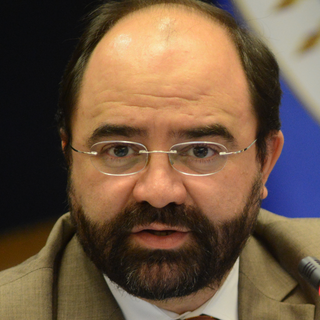eye: (178, 139, 227, 164), (98, 139, 145, 163)
